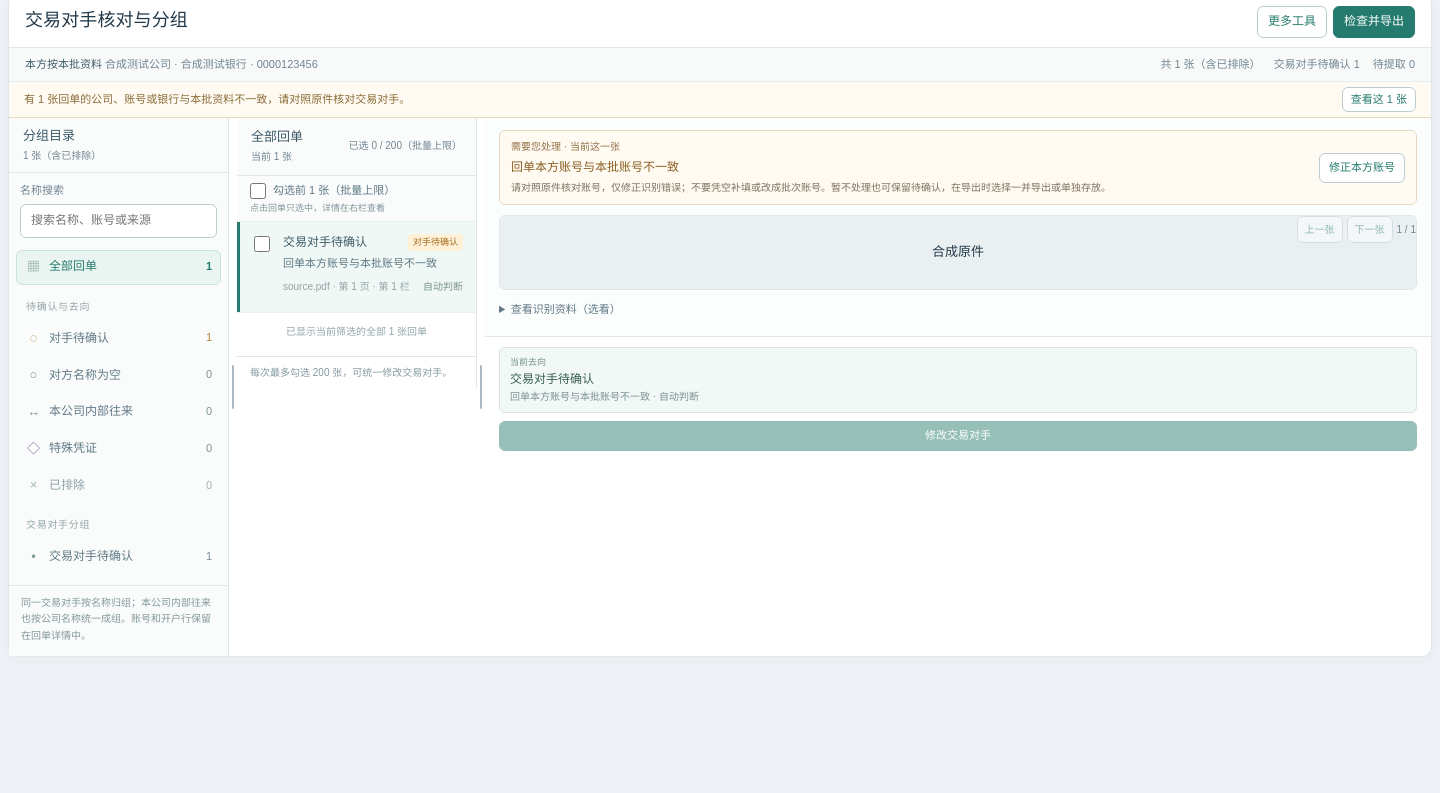
本方采用批次资料后的交易对手核对 › 明确本方账号矛盾却未知侧别时，不把修正目标自动转成交易对手账号
This screenshot has width=1440, height=793.
Click the button "修正本方账号" at (1362, 168), box left=1319, top=153, right=1405, bottom=183
(page scrolled)
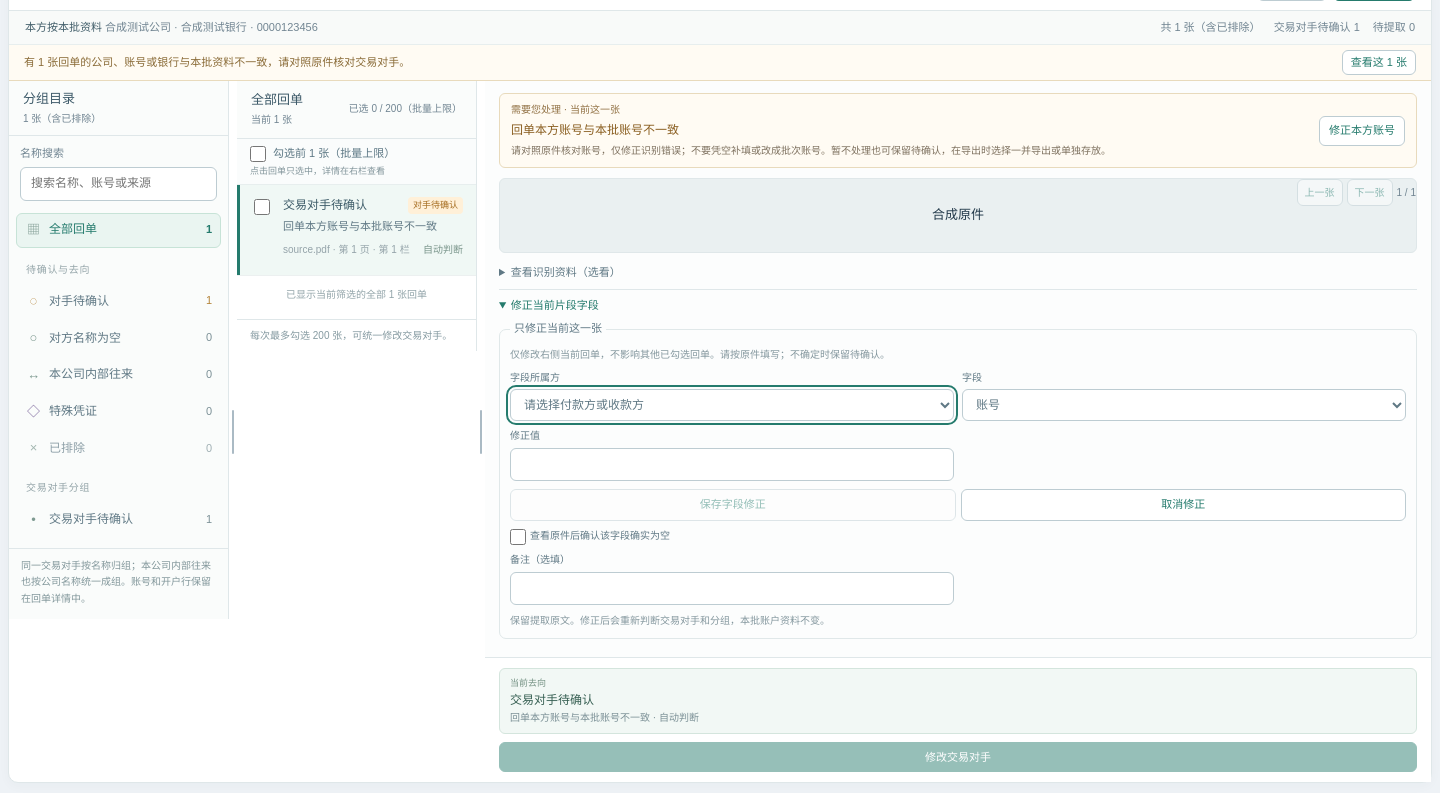
Expected: the dropdown named "修正字段所属方" shows "请选择付款方或收款方", left=510, top=389, right=954, bottom=421
Expected: the dropdown named "修正字段" shows "账号", left=962, top=389, right=1406, bottom=421
Expected: the button "保存字段修正" is disabled, left=510, top=489, right=956, bottom=521
